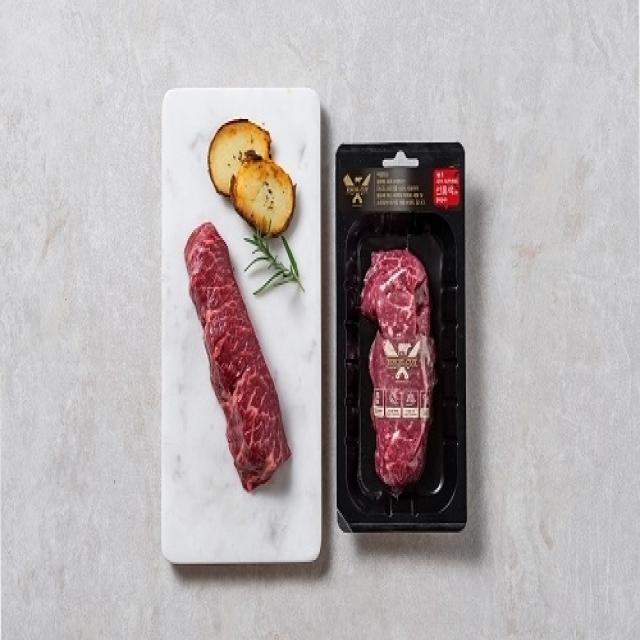beef: (352, 238, 456, 507), (180, 240, 283, 482)
